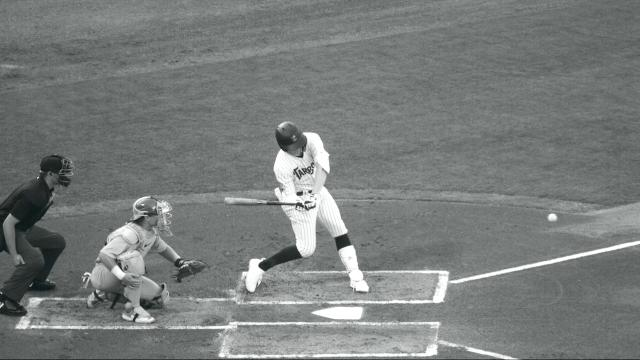ball: (548, 212, 560, 221)
bat: (224, 197, 296, 209)
